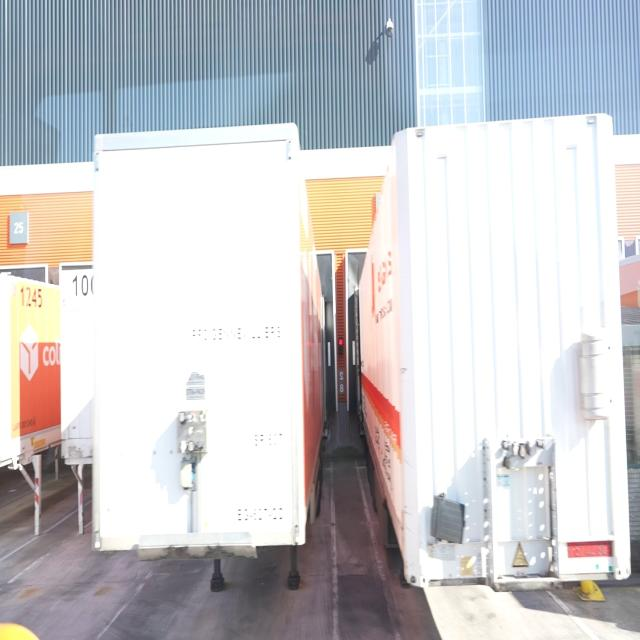Code: (16, 278, 47, 316)
